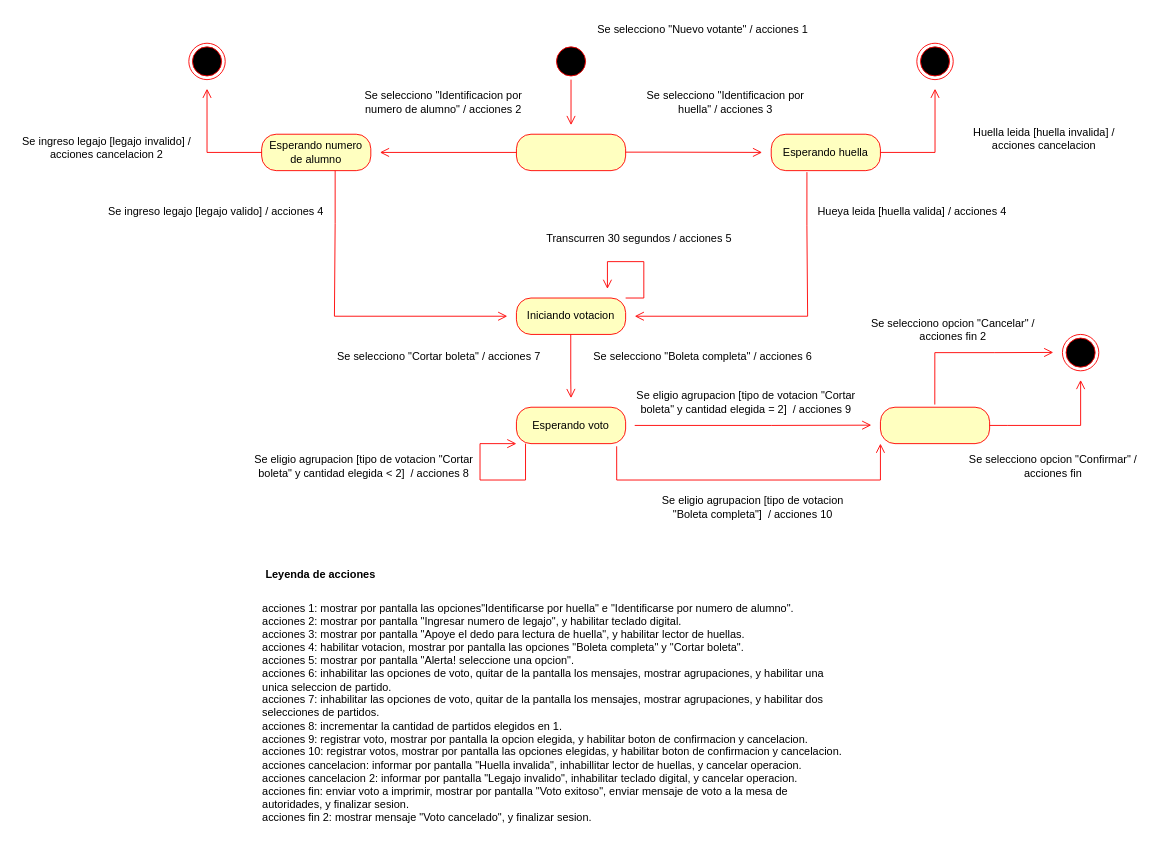
Some shapes in this 1168 by 841 pixel diagram are drawn without their labels. Here are the shapes that lost their labels. From the top down, the centre of each, then its label:
At (571,152): "Esperando identifiacion".
At (935,425): "Esperando confirmacion".
